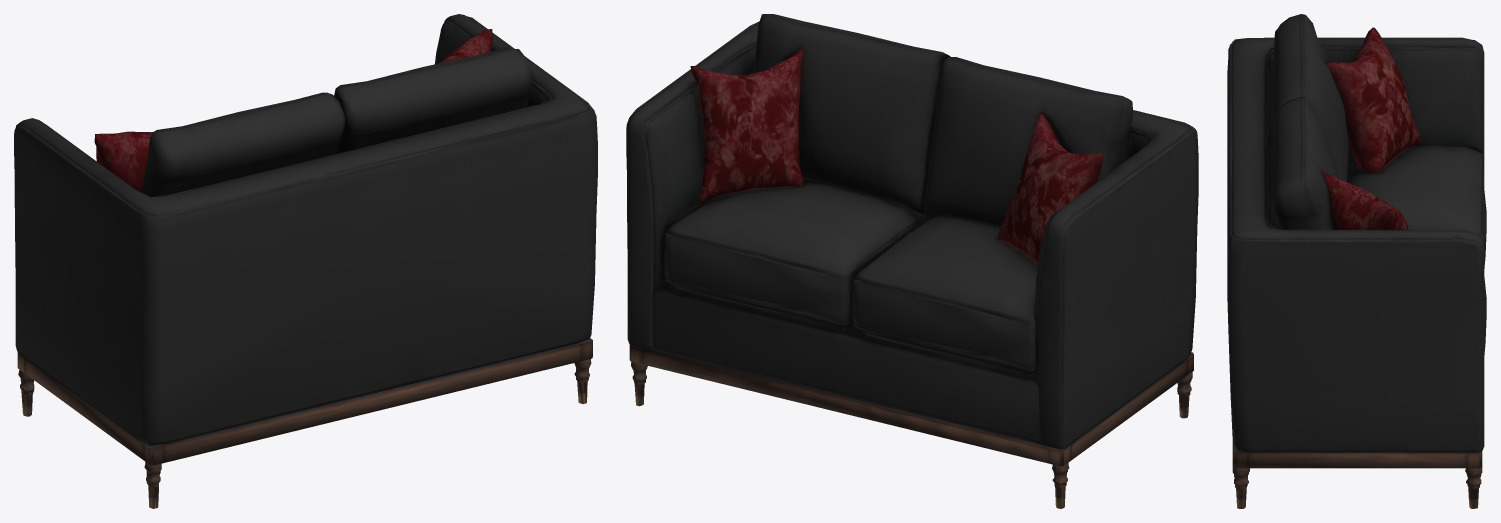
Rendered from furniture-sofa-two-seat.glb.
The picture shows the model from 3 angles, left to right: view 1: azimuth 30°, elevation 25°; view 2: azimuth 150°, elevation 25°; view 3: azimuth 270°, elevation 25°; orthographic projection. The views are drawn at different scales.
Parts seen in each view (by area): view 1: tripo_node_16f8e58b-b67c-4b7c-9b5c-bcbb194e71ad; view 2: tripo_node_16f8e58b-b67c-4b7c-9b5c-bcbb194e71ad; view 3: tripo_node_16f8e58b-b67c-4b7c-9b5c-bcbb194e71ad.
Part boxes in pixels (box(x1,y1,x2,y2)): tripo_node_16f8e58b-b67c-4b7c-9b5c-bcbb194e71ad: box(14, 14, 597, 508); tripo_node_16f8e58b-b67c-4b7c-9b5c-bcbb194e71ad: box(626, 14, 1198, 508); tripo_node_16f8e58b-b67c-4b7c-9b5c-bcbb194e71ad: box(1227, 14, 1486, 508).
Bounding box in the file's own units: 1.3 × 0.94 × 0.7.
1 material, 1 textured.
